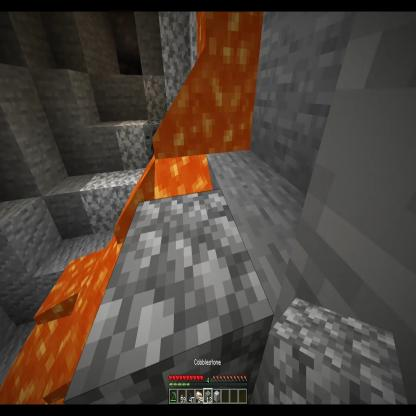coal ore: (142, 117, 170, 165)
iron ore: (110, 10, 133, 50)
